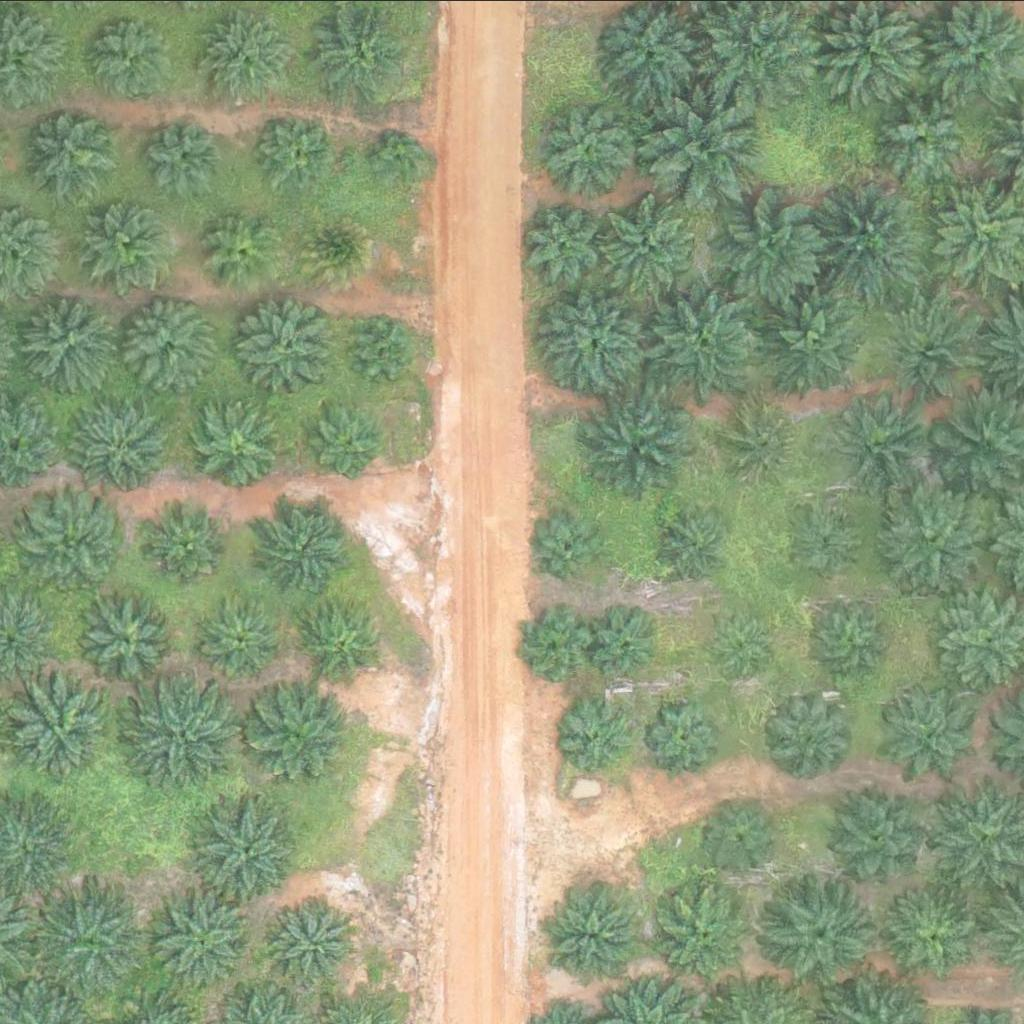Kelapa_Sawit: (577, 385, 703, 510), (638, 278, 764, 403), (708, 183, 834, 308), (641, 86, 767, 211), (764, 875, 878, 988), (42, 883, 155, 996), (127, 674, 240, 787), (874, 482, 987, 594), (760, 282, 873, 394), (876, 295, 989, 407), (813, 183, 926, 295), (18, 670, 119, 770), (254, 494, 355, 594), (240, 681, 341, 781), (197, 796, 298, 896), (154, 888, 255, 988), (541, 293, 642, 393), (34, 491, 134, 591), (120, 289, 220, 389), (238, 293, 338, 393), (887, 886, 987, 986), (831, 784, 931, 884), (880, 682, 980, 782), (598, 194, 698, 294), (604, 4, 704, 104), (296, 596, 385, 684), (83, 198, 171, 286), (83, 596, 171, 684), (23, 295, 111, 383), (144, 494, 232, 582), (195, 593, 283, 681), (269, 895, 357, 983), (766, 689, 854, 777), (809, 594, 897, 682), (879, 92, 967, 180), (83, 14, 171, 101), (195, 12, 283, 99), (32, 109, 120, 196), (78, 402, 166, 489), (197, 396, 285, 483), (546, 889, 634, 976), (660, 887, 748, 974), (832, 398, 920, 485), (519, 201, 607, 288), (545, 107, 633, 194), (208, 211, 284, 286), (147, 121, 223, 196), (256, 114, 332, 189), (297, 210, 373, 285), (346, 312, 422, 387), (707, 793, 783, 868), (725, 404, 800, 479), (305, 402, 380, 477), (558, 696, 633, 771), (650, 696, 725, 771), (516, 612, 591, 687), (594, 608, 669, 683), (531, 510, 606, 585), (661, 507, 736, 582), (791, 501, 866, 576), (369, 125, 432, 187), (713, 615, 776, 677)
